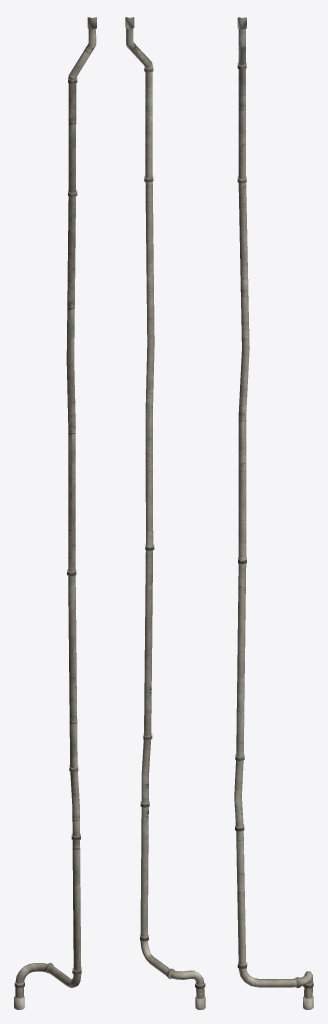
Rendered from gutter_512_001a.glb.
3 views of the same model, side by side, from view 1: azimuth 30°, elevation 25°; view 2: azimuth 210°, elevation 25°; view 3: azimuth 270°, elevation 25° (orthographic). The views are drawn at different scales.
Parts seen in each view (by area): view 1: 0_PipeMetal004a; view 2: 0_PipeMetal004a; view 3: 0_PipeMetal004a.
Part boxes in pixels (left/top/right/bottom): 0_PipeMetal004a: left=14, top=17, right=96, bottom=1009; 0_PipeMetal004a: left=125, top=17, right=205, bottom=1009; 0_PipeMetal004a: left=234, top=17, right=313, bottom=1009.
Size of the model in its own units: 0.6618 by 13.01 by 0.9259.
Materials: 1 (1 with a texture image).
